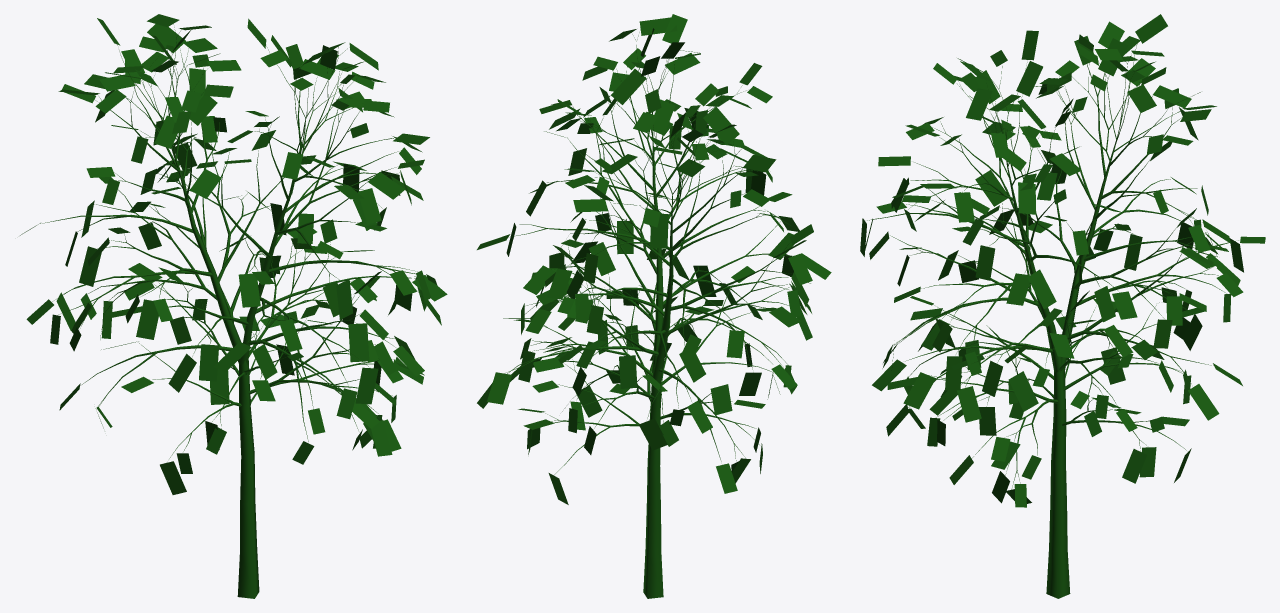
Rendered from Tree3.fbx.
The picture shows the model from 3 angles, left to right: view 1: azimuth 30°, elevation 25°; view 2: azimuth 150°, elevation 25°; view 3: azimuth 270°, elevation 25°; orthographic projection. The views are drawn at different scales.
Visible parts, largest first — view 1: Tree3; view 2: Tree3; view 3: Tree3.
Boxes of the visible parts, x1,y1,x2,y2 form: Tree3: (20,14,447,598); Tree3: (477,14,831,598); Tree3: (860,14,1265,598).
Bounding box in the file's own units: 1012 × 1673 × 1102.
